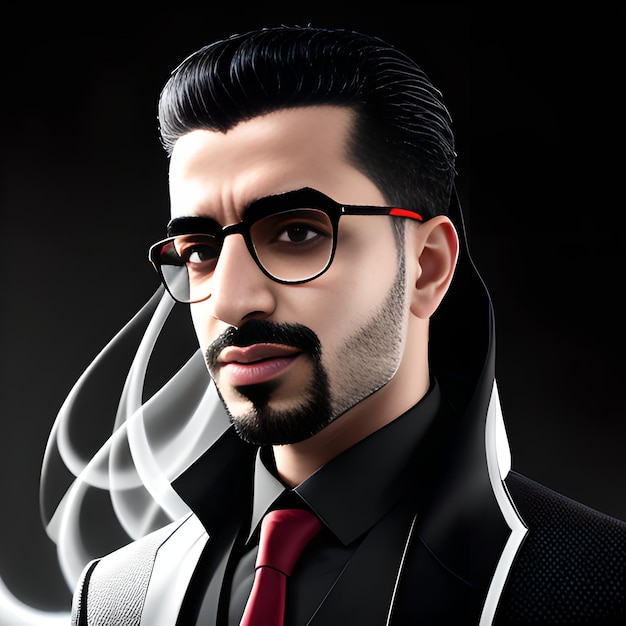young: (147, 55, 446, 423)
